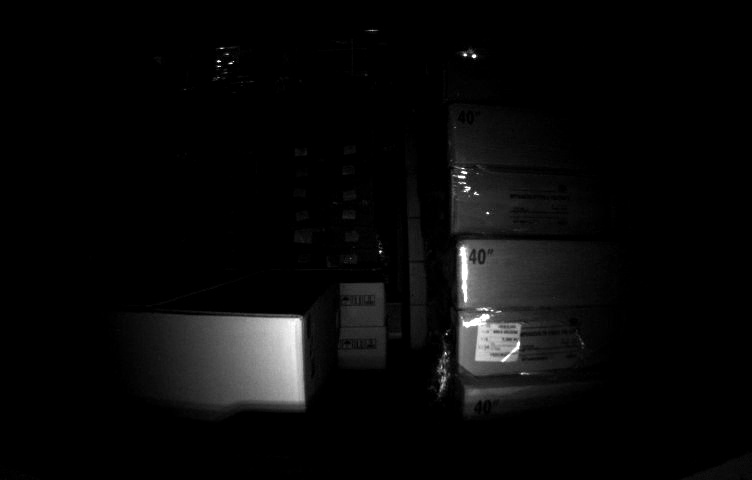True Barcode: (477, 321, 522, 362)
